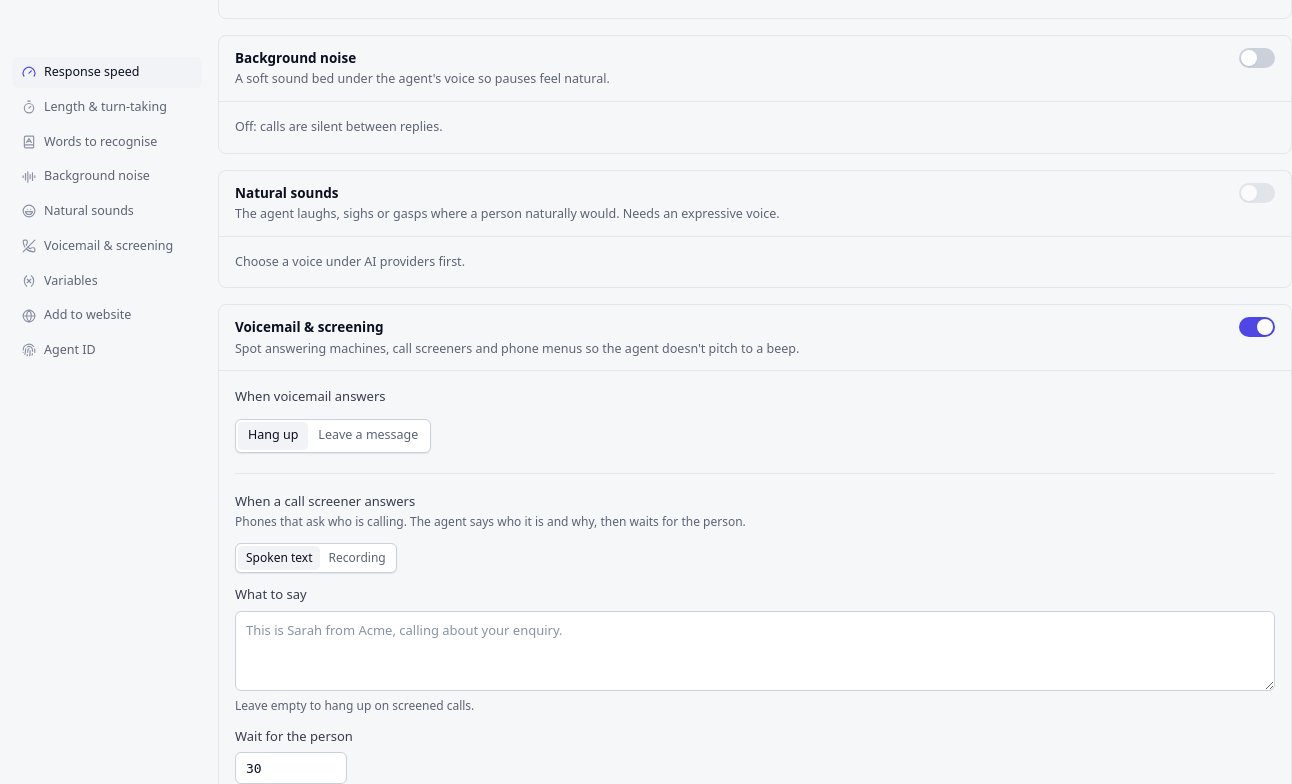
Test: CallSettingsTab › asks for a recording when the voicemail message is a recording
(page scrolled)
Click the radio button labelled "Leave a message" at [368, 436], box [308,422,428,450]
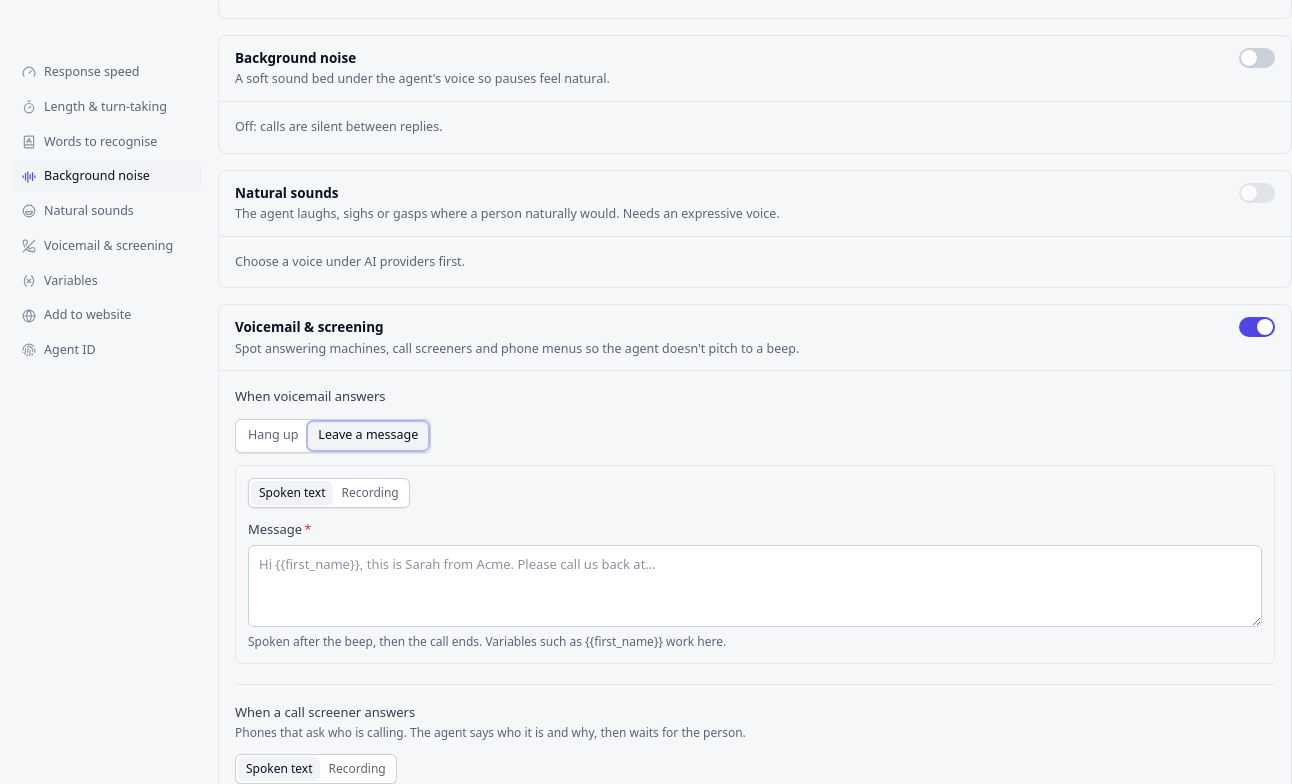
Click the radio button labelled "Recording" below "When voicemail answers" at [370, 493], box [334,481,407,505]
(page scrolled)
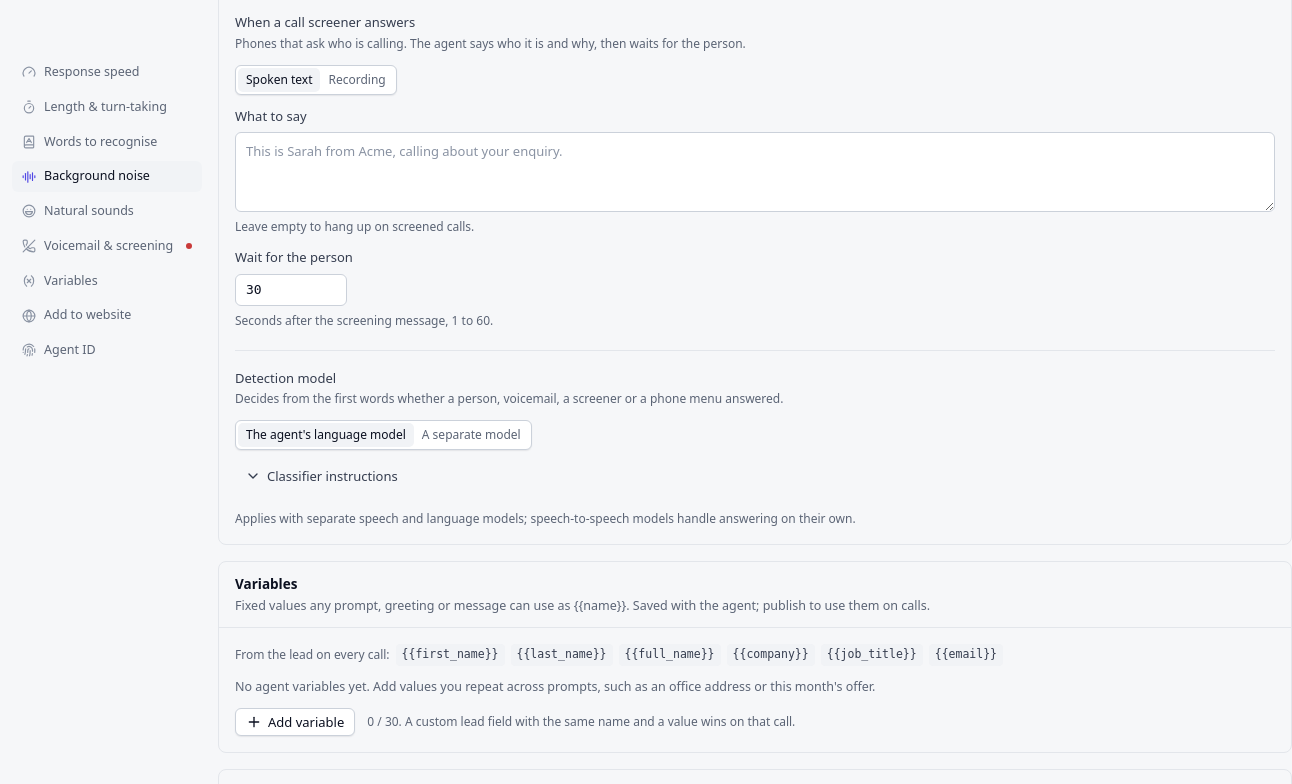
Click the radio button labelled "A separate model" at [471, 435], box [414,423,529,447]
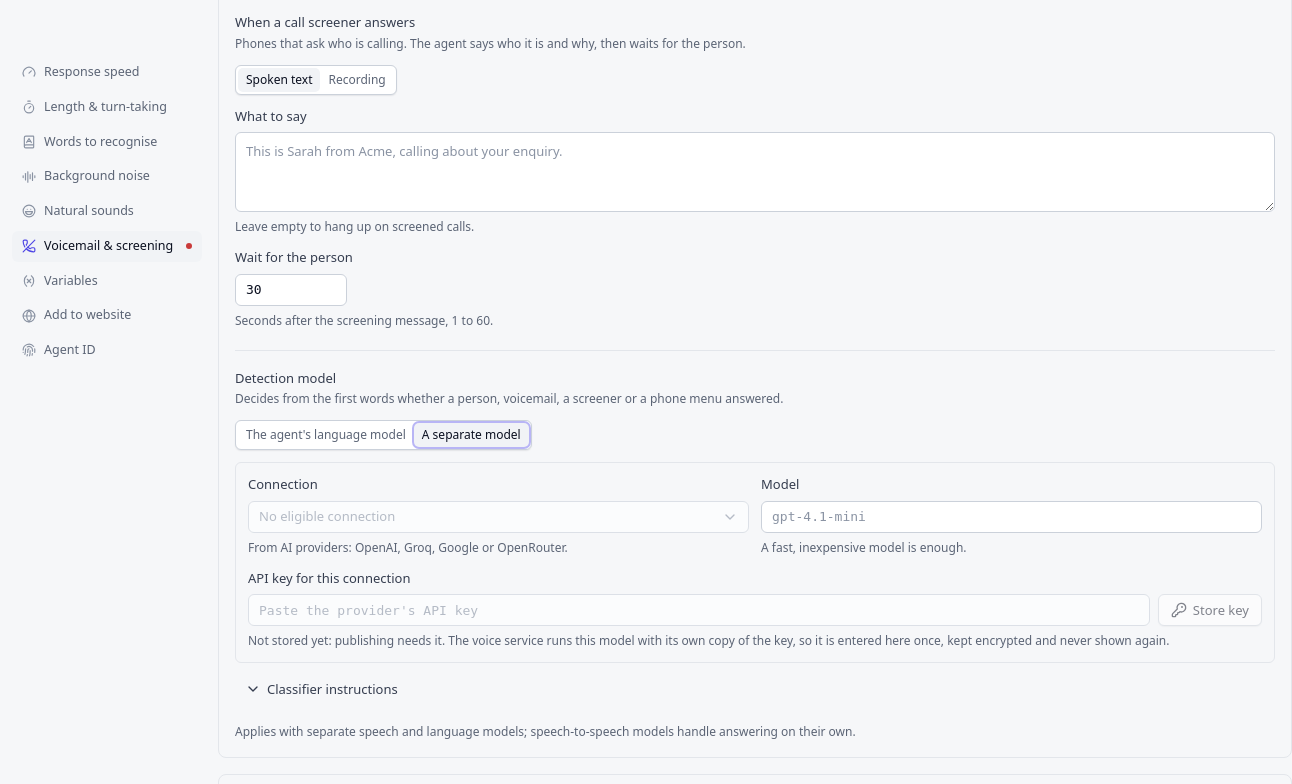
Expected: the text "No eligible connection" is shown, [259,507,395,525]
